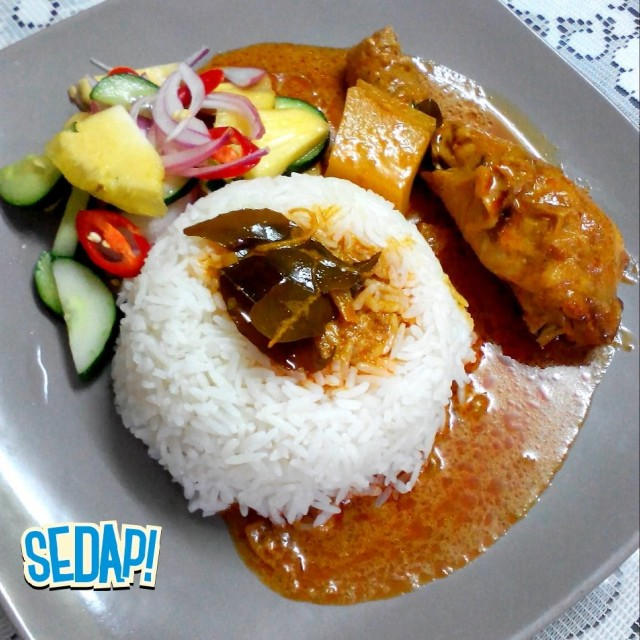plain rice: (146, 197, 462, 496)
